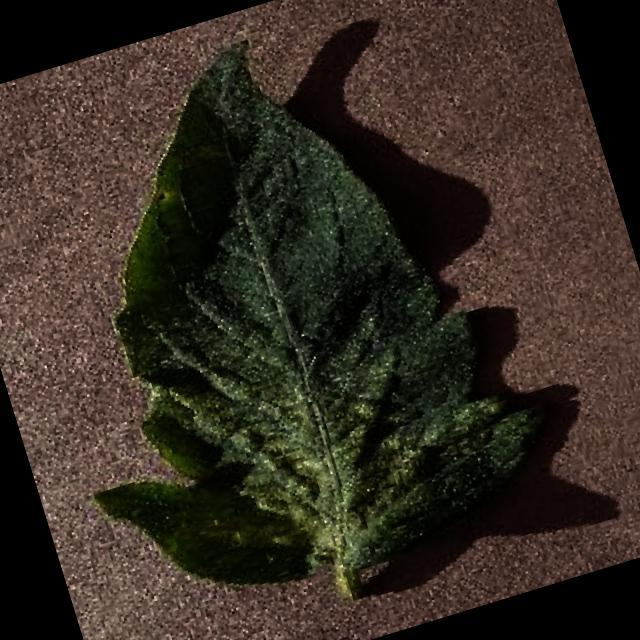Tomato spider mites leaf: (0, 0, 569, 640)
